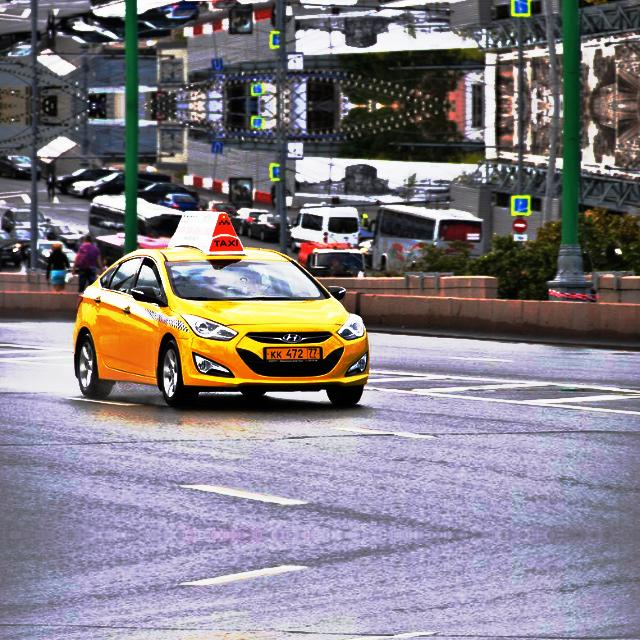taxi: (262, 344, 326, 364)
